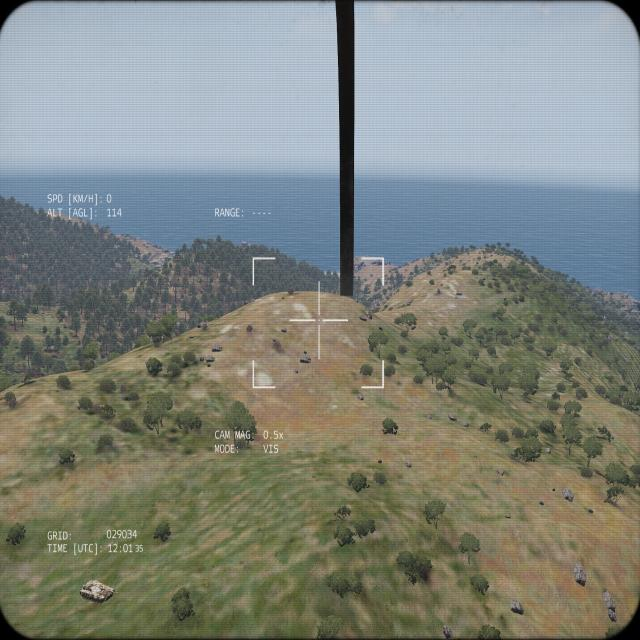tank: (78, 578, 120, 606)
